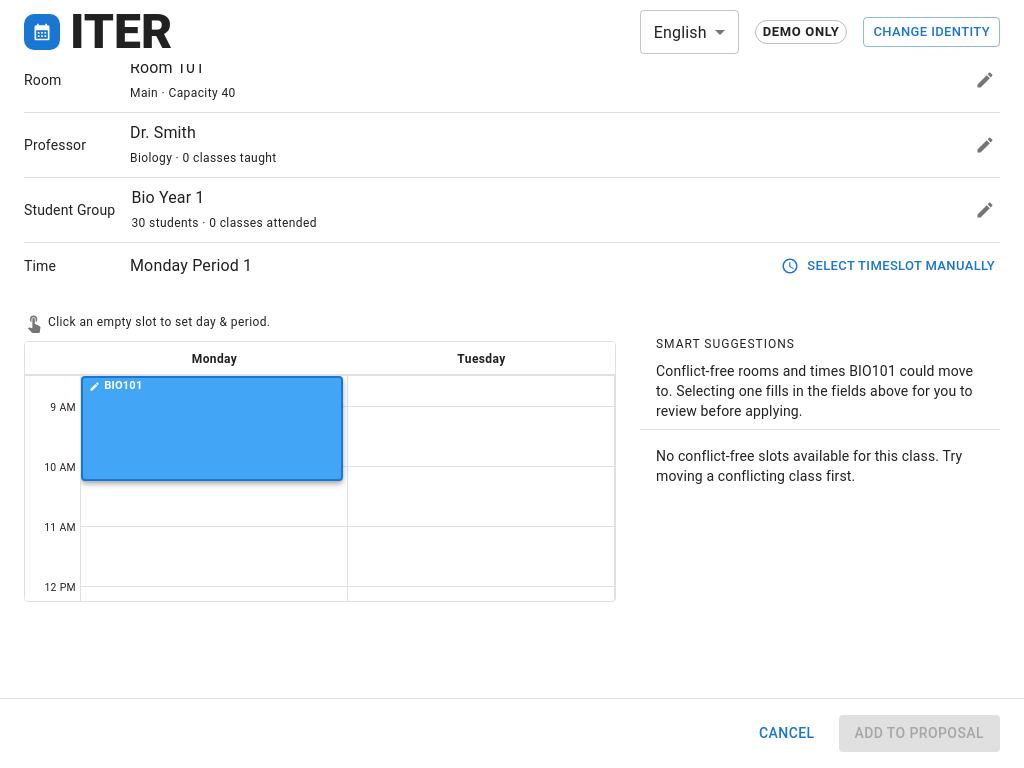
it: EditClassPage › the calendar click-to-set shortcut updates the Time text and enables Apply
(page scrolled)
Click the button named "Use Monday Period 2": (214, 549) [81, 496, 347, 601]
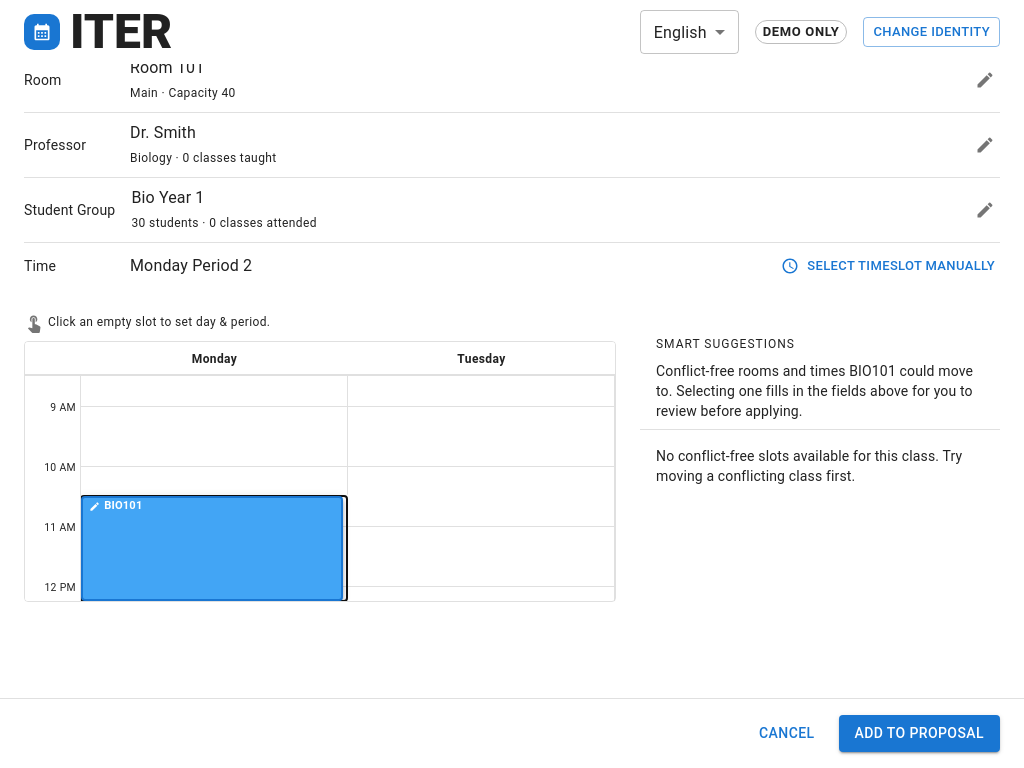
Expected: the text "Monday Period 2" is shown, [130, 256, 252, 275]
Expected: the button "Add to Proposal" is enabled, [838, 715, 1000, 752]
